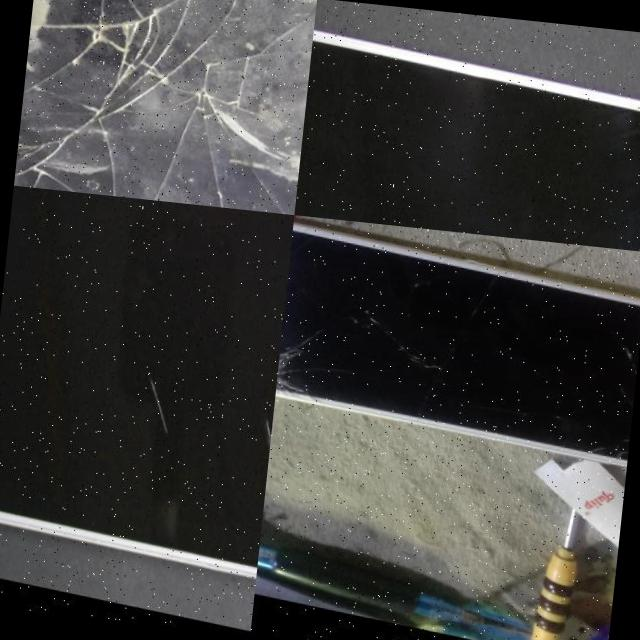scratch: (136, 374, 181, 452), (245, 414, 272, 528)
screen crack: (12, 0, 315, 214), (269, 220, 360, 446)
